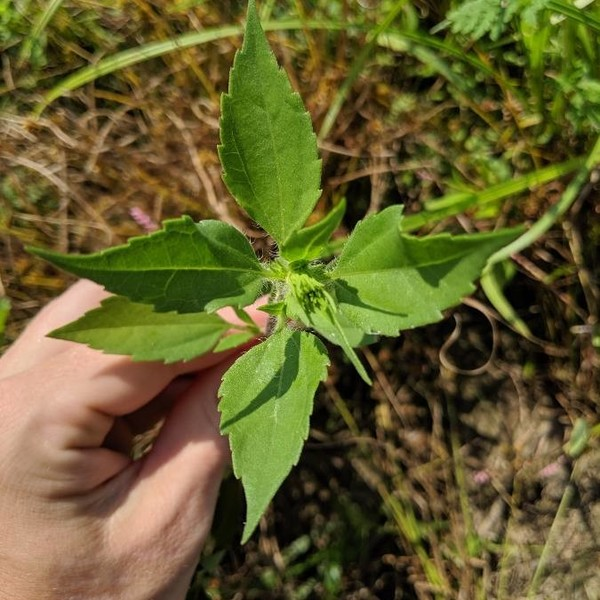obstacle: (46, 42, 508, 531)
